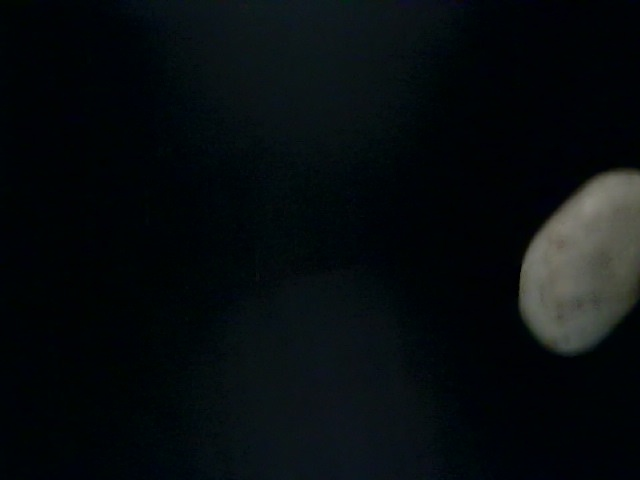QTLJ: (125, 355, 327, 480)
